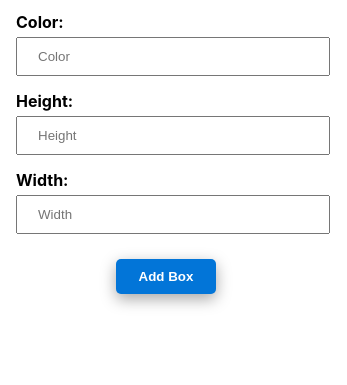
Scenario: remove box successful
The image size is (347, 385).
In the field labelled "Color:": (173, 56) [16, 37, 330, 76], type "peachpuff"
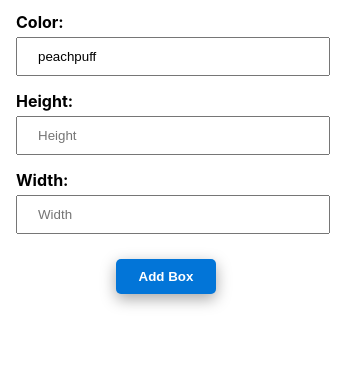
In the field labelled "Width:": (173, 214) [16, 195, 330, 234], type "2"
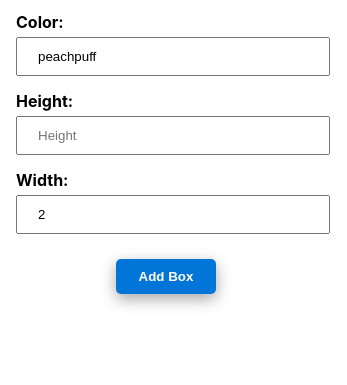
In the field labelled "Height:": (173, 136) [16, 116, 330, 155], type "2"
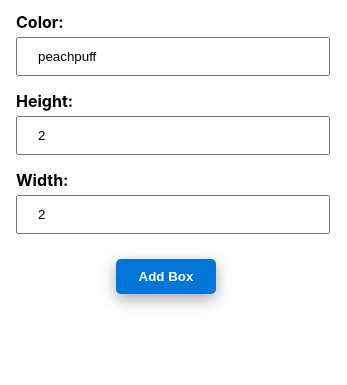
Click the button "Add Box": (166, 276) [116, 259, 216, 294]
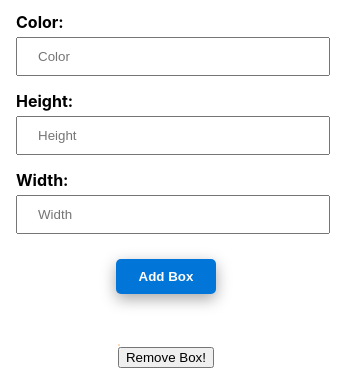
Click the button "Remove Box!": (166, 358) [118, 347, 214, 368]
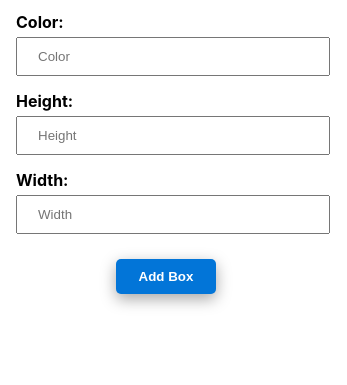
Result: the button "Remove Box!" is gone
